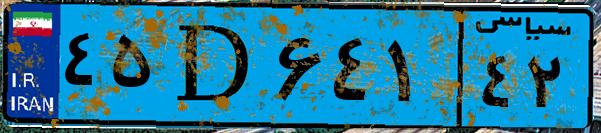1: (385, 28, 445, 110)
2: (525, 38, 570, 115)
4: (330, 28, 385, 110), (57, 26, 110, 100), (475, 38, 525, 113)
5: (110, 28, 158, 98)
6: (270, 28, 330, 110)
D: (158, 12, 270, 120)
